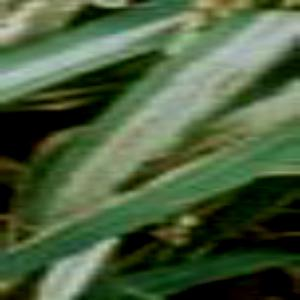2 BacterialBlight: (76, 11, 300, 180)
